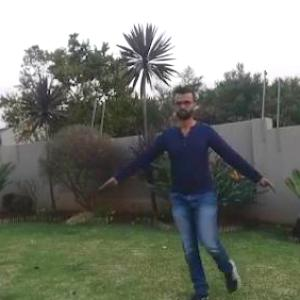land: (128, 99, 260, 261)
